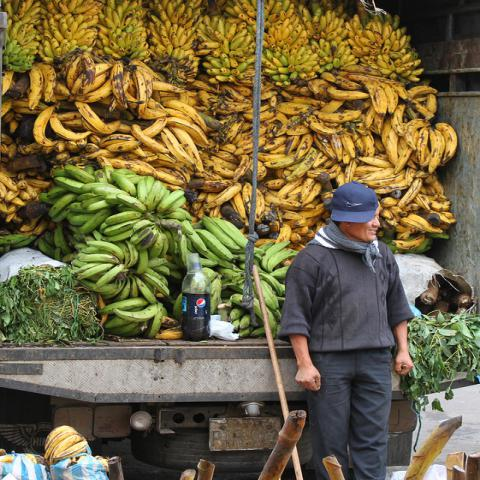truck: (1, 0, 479, 475)
